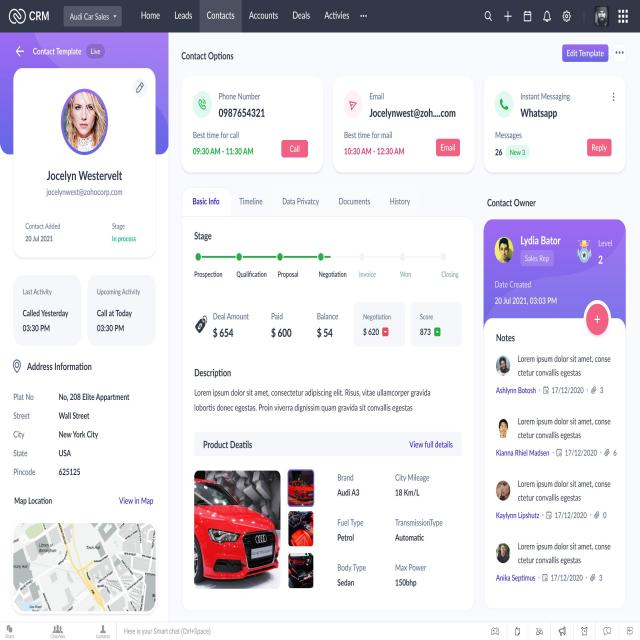button: (584, 297, 612, 339), (562, 43, 609, 64), (281, 139, 308, 158), (436, 138, 460, 158), (588, 138, 612, 156)
select: (62, 6, 123, 28)
